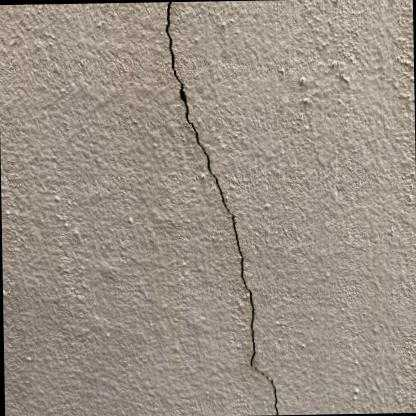crack: (160, 1, 287, 415)
